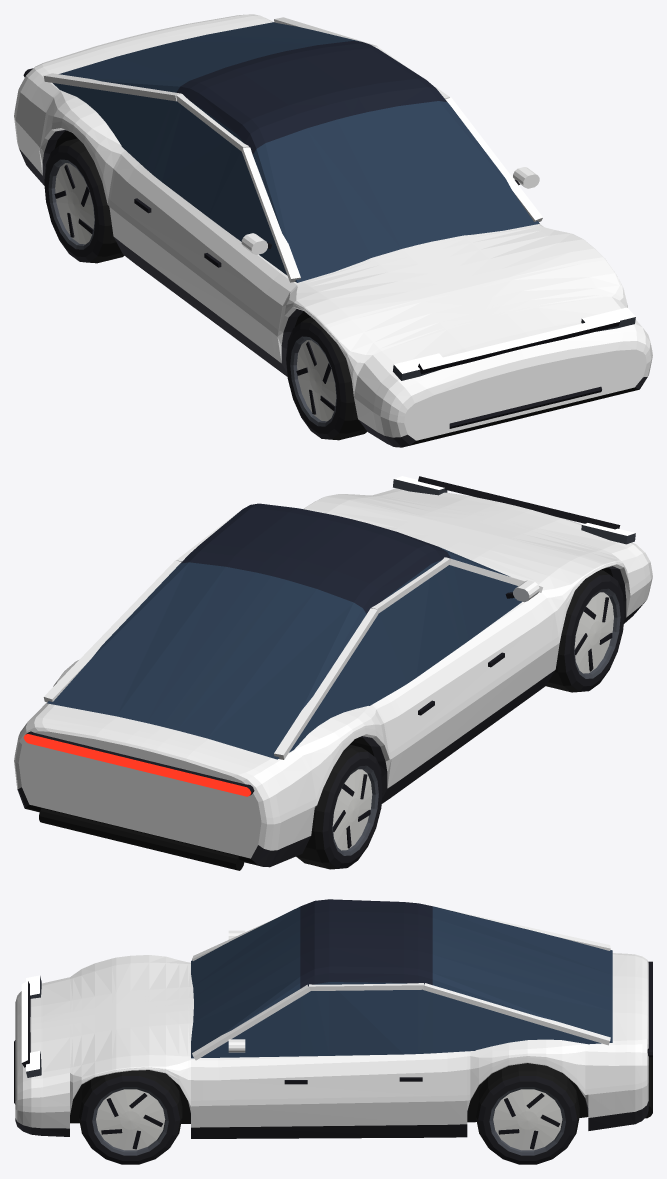
Rendered from electric.glb.
3 views of the same model, one above another, from view 1: azimuth 30°, elevation 25°; view 2: azimuth 150°, elevation 25°; view 3: azimuth 270°, elevation 25° (orthographic). The views are drawn at different scales.
Visible parts, largest first — view 1: paint, glass, glass_dark, stripe_a, tire_side (×2), part_17 (×2), trim_soft, stripe_b, tire (×2), trim, rim_gunmetal (×2), headlight_drl (+2 smaller); view 2: paint, glass, glass_dark, stripe_a, tire_side (×2), part_17 (×2), trim_soft, trim_under, stripe_b, tire (×2), trim, taillight (+2 smaller); view 3: paint, glass, glass_dark, part_17 (×2), tire_side (×2), stripe_a, trim_soft, stripe_b, tire (×2), trim (×3), rim_gunmetal (×2), trim_under (+2 smaller).
Boxes of the visible parts, left/top/right/bottom form: paint: left=14, top=14, right=652, bottom=440; glass: left=53, top=22, right=539, bottom=282; glass_dark: left=176, top=40, right=447, bottom=154; stripe_a: left=96, top=24, right=570, bottom=380; tire_side (×2): left=44, top=145, right=346, bottom=439; part_17 (×2): left=55, top=163, right=336, bottom=421; trim_soft: left=19, top=130, right=647, bottom=447; stripe_b: left=14, top=110, right=652, bottom=422; tire (×2): left=60, top=138, right=367, bottom=440; trim: left=23, top=68, right=619, bottom=428; rim_gunmetal (×2): left=48, top=159, right=336, bottom=426; headlight_drl: left=419, top=315, right=619, bottom=369; paint: left=14, top=488, right=652, bottom=858; glass: left=47, top=547, right=522, bottom=759; glass_dark: left=180, top=503, right=450, bottom=613; stripe_a: left=95, top=496, right=562, bottom=761; tire_side (×2): left=322, top=574, right=624, bottom=868; part_17 (×2): left=332, top=592, right=613, bottom=850; trim_soft: left=17, top=566, right=645, bottom=867; trim_under: left=25, top=567, right=612, bottom=870; stripe_b: left=14, top=562, right=652, bottom=824; tire (×2): left=296, top=570, right=609, bottom=869; trim: left=26, top=476, right=620, bottom=795; taillight: left=23, top=734, right=251, bottom=796; paint: left=15, top=908, right=648, bottom=1128; glass: left=191, top=906, right=612, bottom=1058; glass_dark: left=300, top=899, right=432, bottom=988; part_17 (×2): left=96, top=1089, right=562, bottom=1150; tire_side (×2): left=81, top=1076, right=577, bottom=1164; stripe_a: left=15, top=976, right=648, bottom=1058; trim_soft: left=15, top=1100, right=648, bottom=1138; stripe_b: left=15, top=1057, right=648, bottom=1112; tire (×2): left=78, top=1063, right=579, bottom=1148; trim (×3): left=14, top=961, right=652, bottom=1149; rim_gunmetal (×2): left=92, top=1087, right=565, bottom=1155; trim_under: left=70, top=1057, right=652, bottom=1123.
Size of the model in its own units: 1.9 by 1.4 by 4.44.
